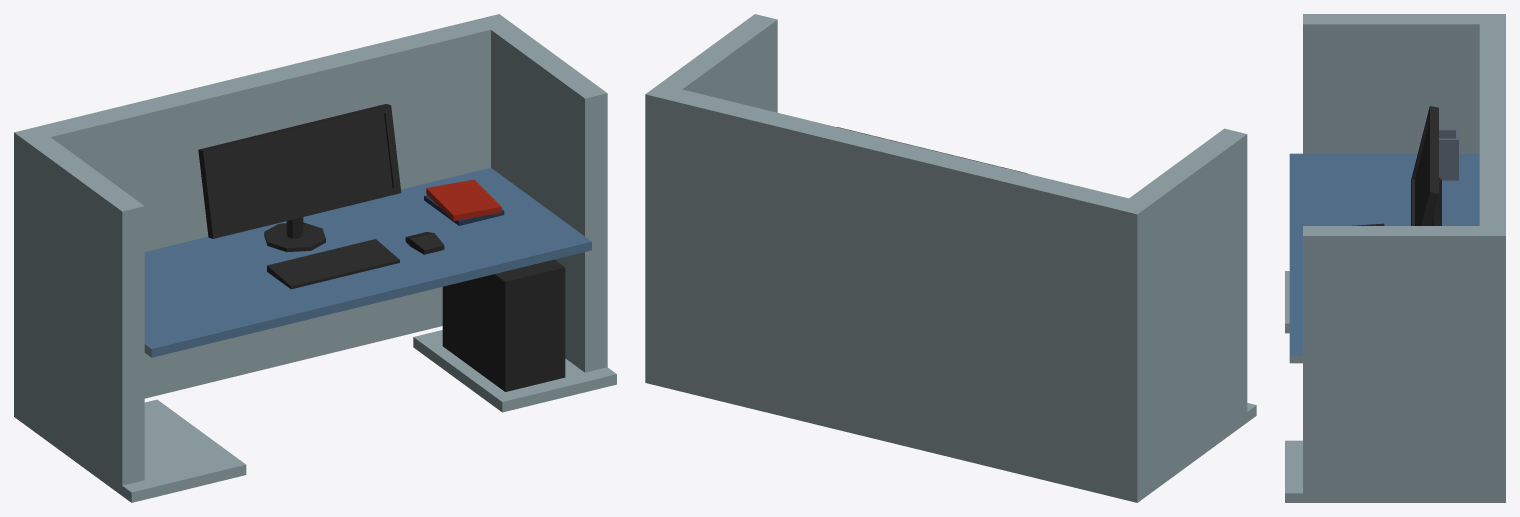
File: desk.fbx
The picture shows the model from 3 angles, left to right: view 1: azimuth 30°, elevation 25°; view 2: azimuth 150°, elevation 25°; view 3: azimuth 270°, elevation 25°; orthographic projection. The views are drawn at different scales.
Parts seen in each view (by area): view 1: Cube, Cube.001, Cube.003, Cube.002, Cube.006; view 2: Cube; view 3: Cube, Cube.001, Cube.004.
Part boxes in pixels (x1,y1,x2,y2): Cube: (14,14,616,502); Cube.001: (198,104,401,252); Cube.003: (442,259,565,391); Cube.002: (267,239,399,289); Cube.006: (426,179,501,221); Cube: (645,14,1256,502); Cube: (1285,14,1505,502); Cube.001: (1411,106,1441,225); Cube.004: (1439,129,1458,180).
Size of the model in its own units: 893 by 500 by 375.
